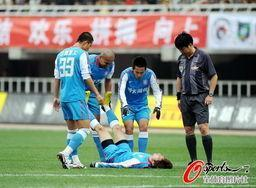Fall-Detected: (84, 80, 172, 170)
